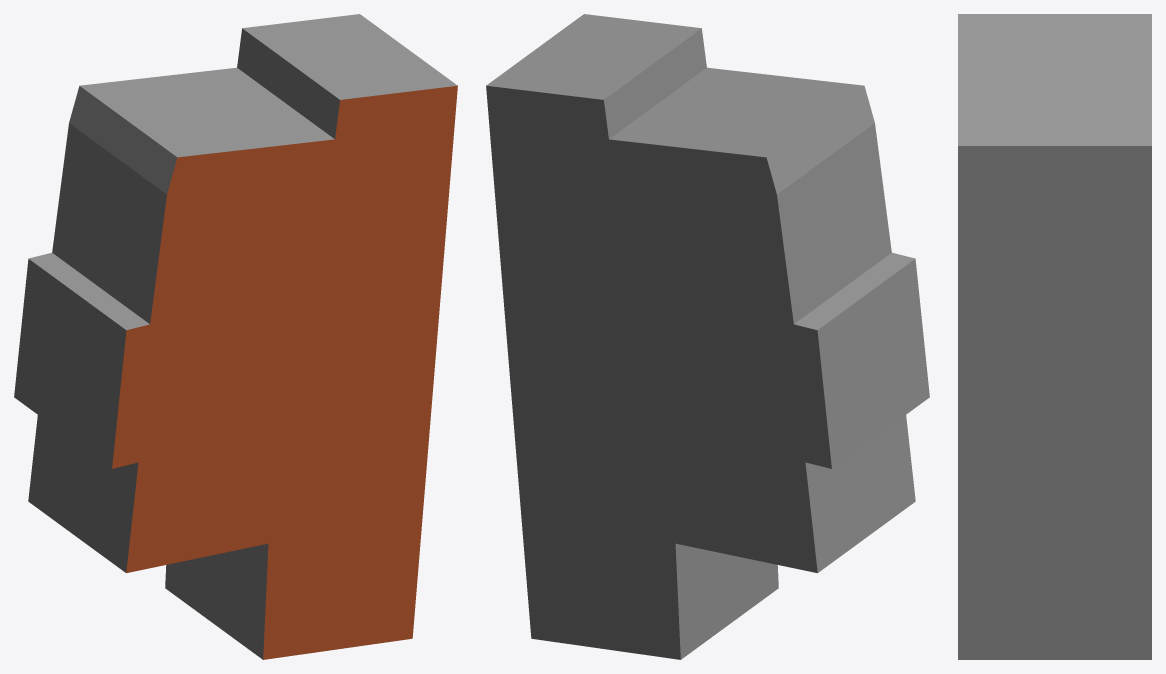
File: construction_0359_assumed_A_Casa_h6m.obj
3 renders of one model, left to right at view 1: azimuth 30°, elevation 25°; view 2: azimuth 150°, elevation 25°; view 3: azimuth 270°, elevation 25°, orthographic.
Visible parts, largest first — view 1: construction_0359_assumed_A_Casa; view 2: construction_0359_assumed_A_Casa; view 3: construction_0359_assumed_A_Casa.
Part boxes in pixels (bbox=[...]): construction_0359_assumed_A_Casa: bbox=[14, 14, 457, 659]; construction_0359_assumed_A_Casa: bbox=[486, 14, 929, 659]; construction_0359_assumed_A_Casa: bbox=[958, 14, 1151, 659].
Bounding box in the file's own units: 12.23 × 18.8 × 6.
